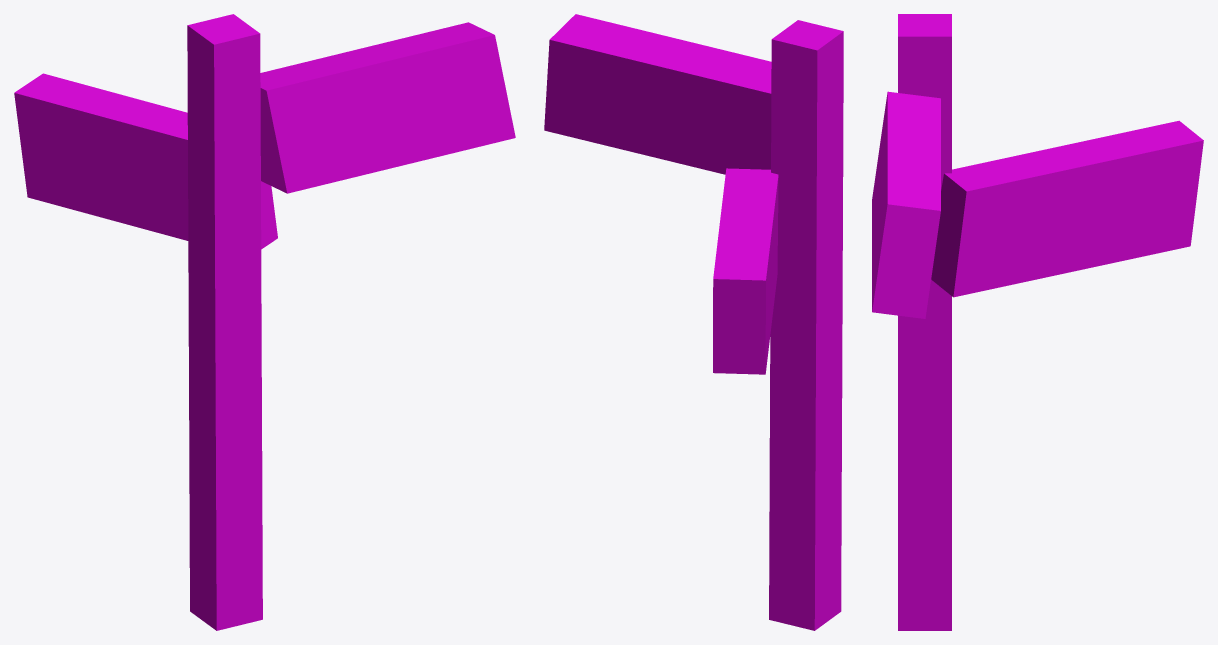
File: Sign_Collider.fbx
The picture shows the model from 3 angles, left to right: view 1: azimuth 30°, elevation 25°; view 2: azimuth 150°, elevation 25°; view 3: azimuth 270°, elevation 25°; orthographic projection. The views are drawn at different scales.
Parts seen in each view (by area): view 1: Sign_Collider; view 2: Sign_Collider; view 3: Sign_Collider.
Boxes of the visible parts, bbox=[...] form: Sign_Collider: bbox=[14, 14, 515, 630]; Sign_Collider: bbox=[544, 14, 843, 630]; Sign_Collider: bbox=[872, 14, 1203, 630].
Size of the model in its own units: 650 by 1043 by 529.
